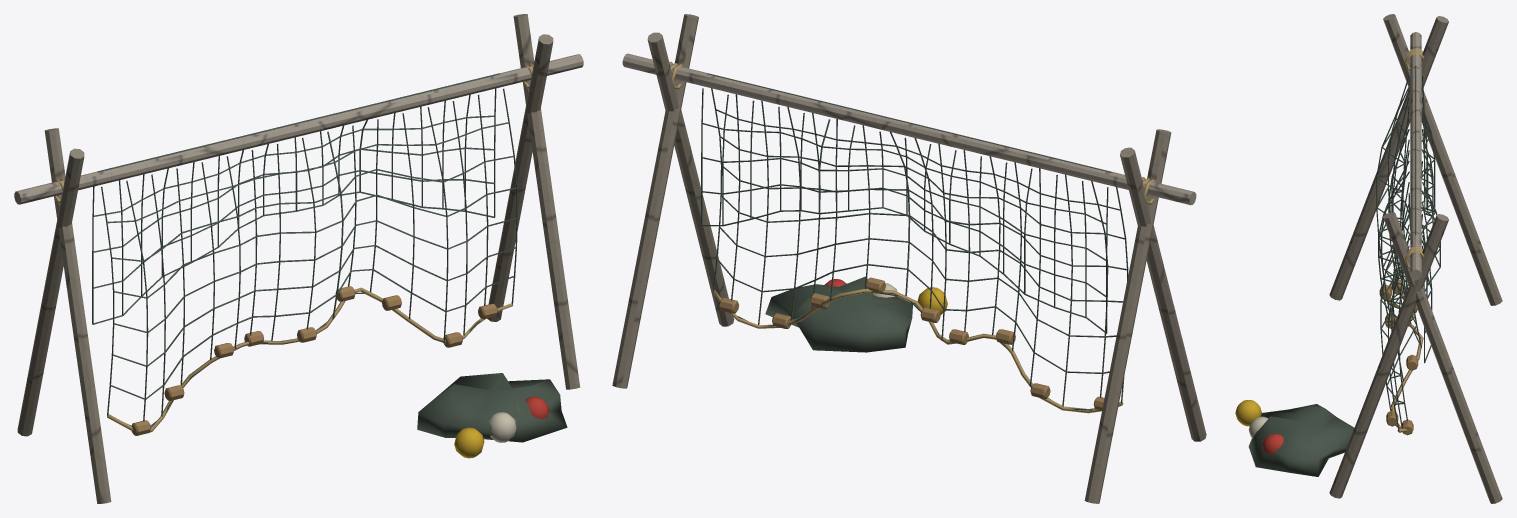
File: fishing_net_rack.glb
The picture shows the model from 3 angles, left to right: view 1: azimuth 30°, elevation 25°; view 2: azimuth 150°, elevation 25°; view 3: azimuth 270°, elevation 25°; orthographic projection. The views are drawn at different scales.
Parts seen in each view (by area): view 1: fishing_net_rack; view 2: fishing_net_rack; view 3: fishing_net_rack.
Boxes of the visible parts, box(x1,y1,x2,y2) form: fishing_net_rack: box(14, 14, 583, 503); fishing_net_rack: box(612, 14, 1206, 503); fishing_net_rack: box(1235, 14, 1502, 503).
Size of the model in its own units: 4.2 by 2.35 by 2.
8 materials, 8 textured.
